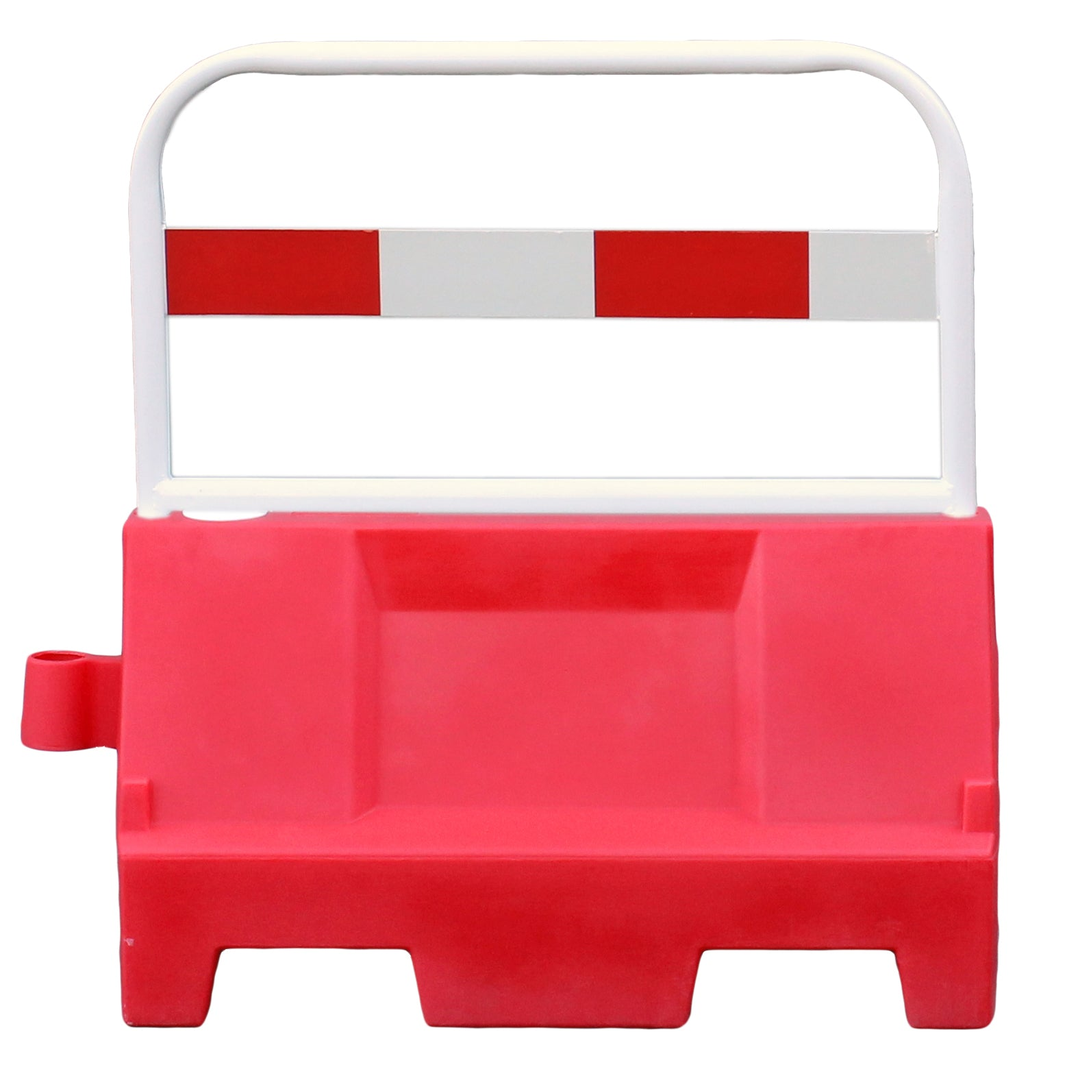Barrier: (24, 13, 1029, 1054)
